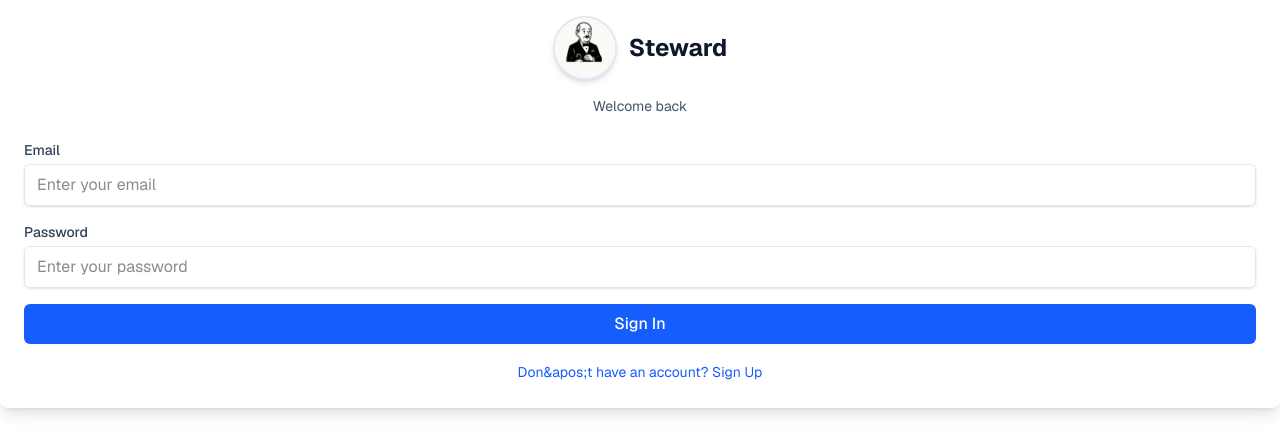
LoginForm › Rendering › should render sign up form when toggled
Click the button "Don&apos;t have an account? Sign Up" at (640, 372), box left=518, top=362, right=762, bottom=382
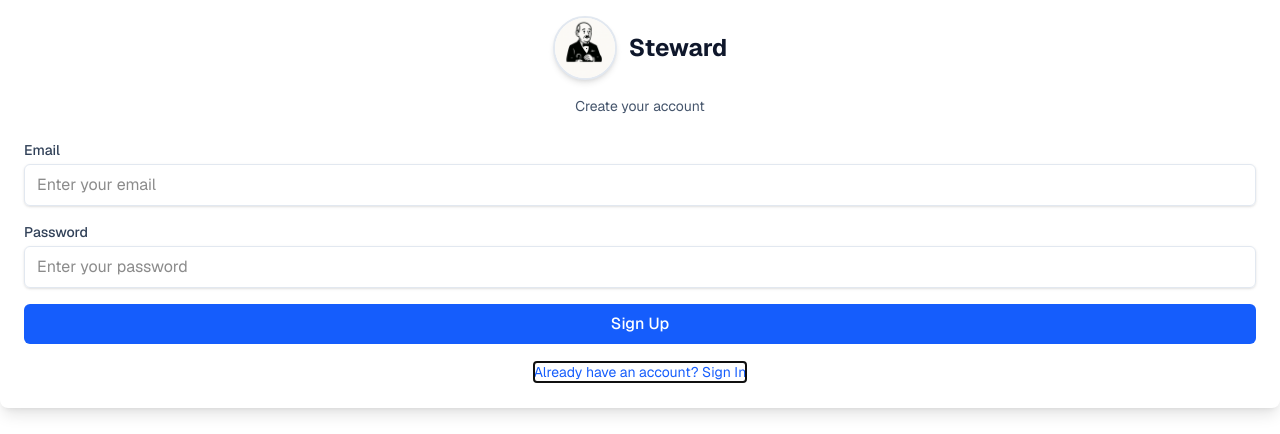
Check: the field labelled "Email" is shown, box left=24, top=164, right=1256, bottom=206
Check: the button "Sign Up" is shown, box left=24, top=304, right=1256, bottom=344
Check: the button "Already have an account? Sign In" is shown, box left=534, top=362, right=746, bottom=382
